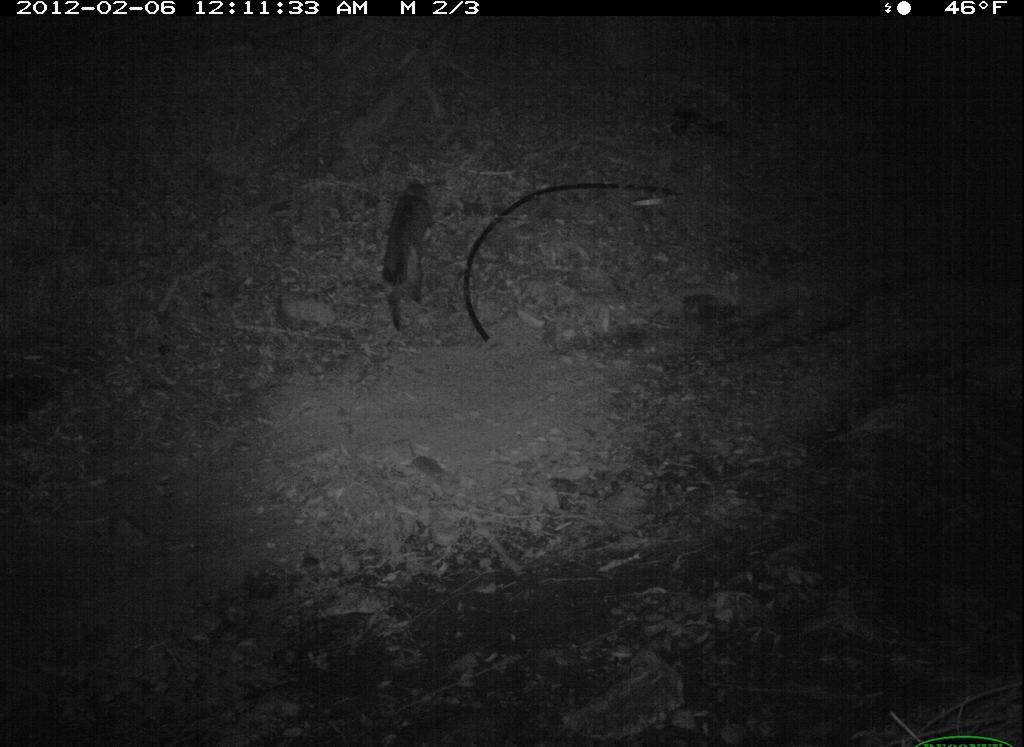cat: (377, 175, 447, 338)
